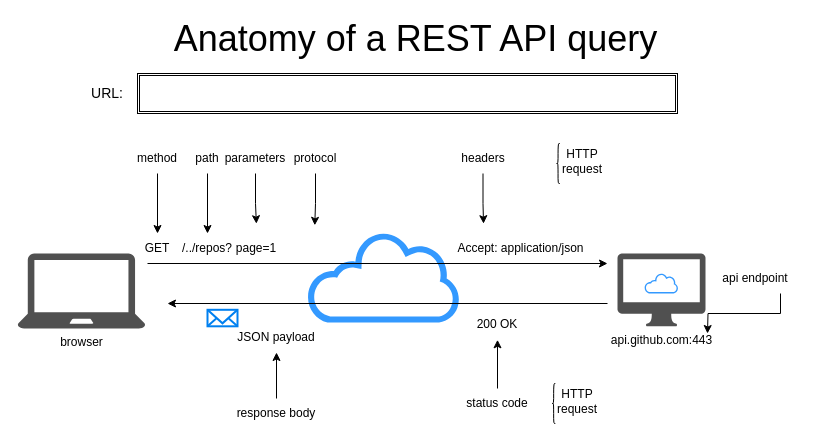
Some shapes in this 822 by 446 pixel diagram are drawn without their labels. The centre of each missing label's shape, as x and y in pixels:
"HTTP/1.1" goes at pixel 384 277.
"https://api.github.com/users/CiscoDevNet/repos?page=1&per_page=2" goes at pixel 407 93.
